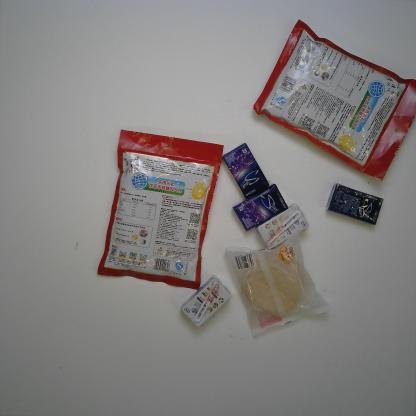Dessert: (225, 234, 333, 339)
Gum: (232, 180, 288, 233), (221, 141, 271, 198), (325, 182, 385, 226)
Instant Drink: (251, 16, 416, 180), (96, 127, 225, 290)
Milk: (179, 273, 232, 330), (254, 201, 310, 251)
